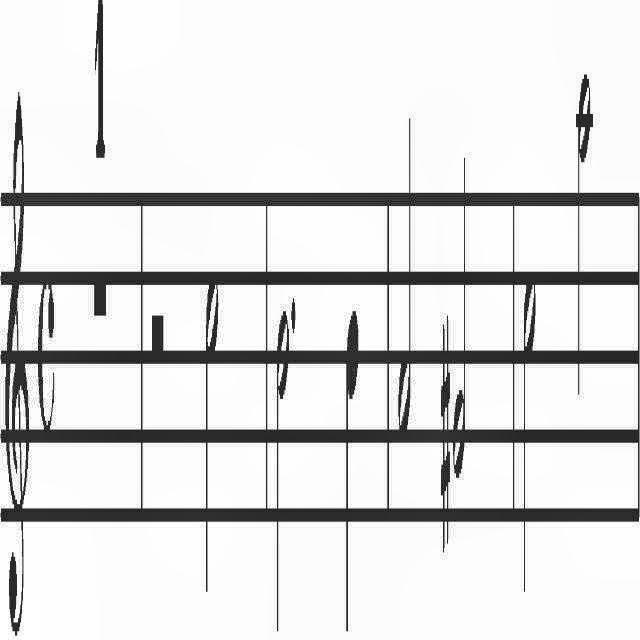Bass-clef: (2, 35, 32, 640)
Diez: (439, 292, 451, 568)
Half-note: (574, 23, 594, 433), (200, 250, 222, 608), (398, 82, 416, 514), (270, 264, 290, 640), (522, 218, 542, 584), (451, 144, 471, 486)
Quarter-note: (339, 246, 358, 616)
